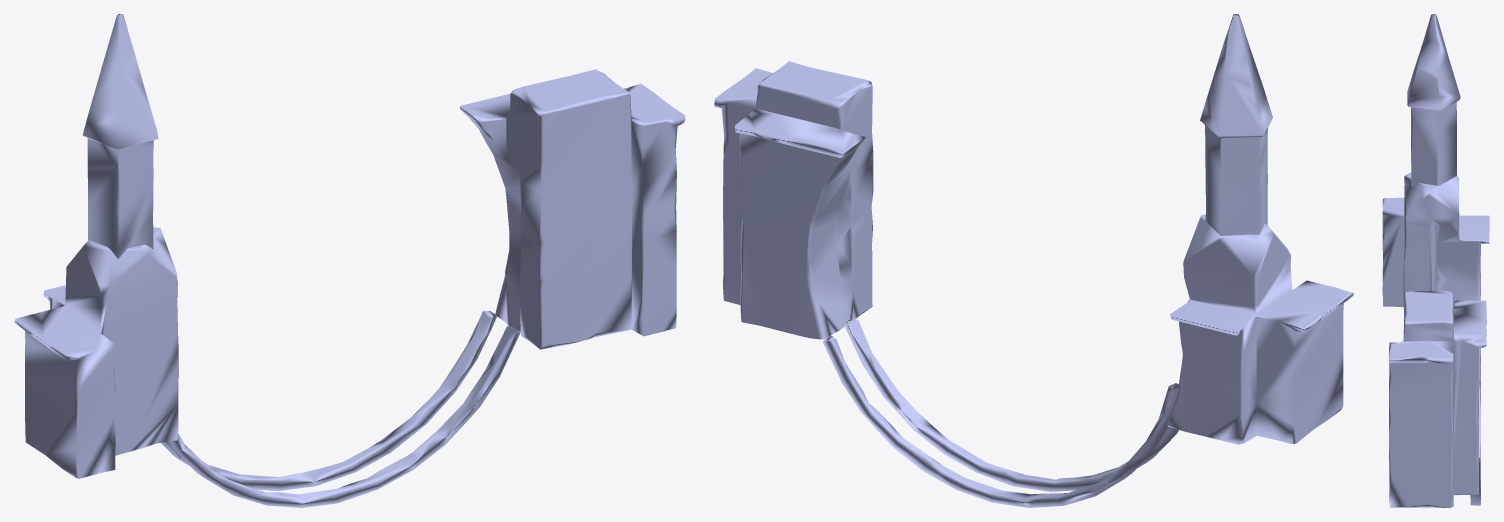
File: upper_details_l_LOD4.fbx
The picture shows the model from 3 angles, left to right: view 1: azimuth 30°, elevation 25°; view 2: azimuth 150°, elevation 25°; view 3: azimuth 270°, elevation 25°; orthographic projection. The views are drawn at different scales.
Visible parts, largest first — view 1: Cylinder_002_LOD4; view 2: Cylinder_002_LOD4; view 3: Cylinder_002_LOD4.
Part boxes in pixels (x1,y1,x2,y2): Cylinder_002_LOD4: (14,14,685,507); Cylinder_002_LOD4: (714,14,1353,507); Cylinder_002_LOD4: (1382,14,1489,507).
Size of the model in its own units: 811 by 675 by 165.
